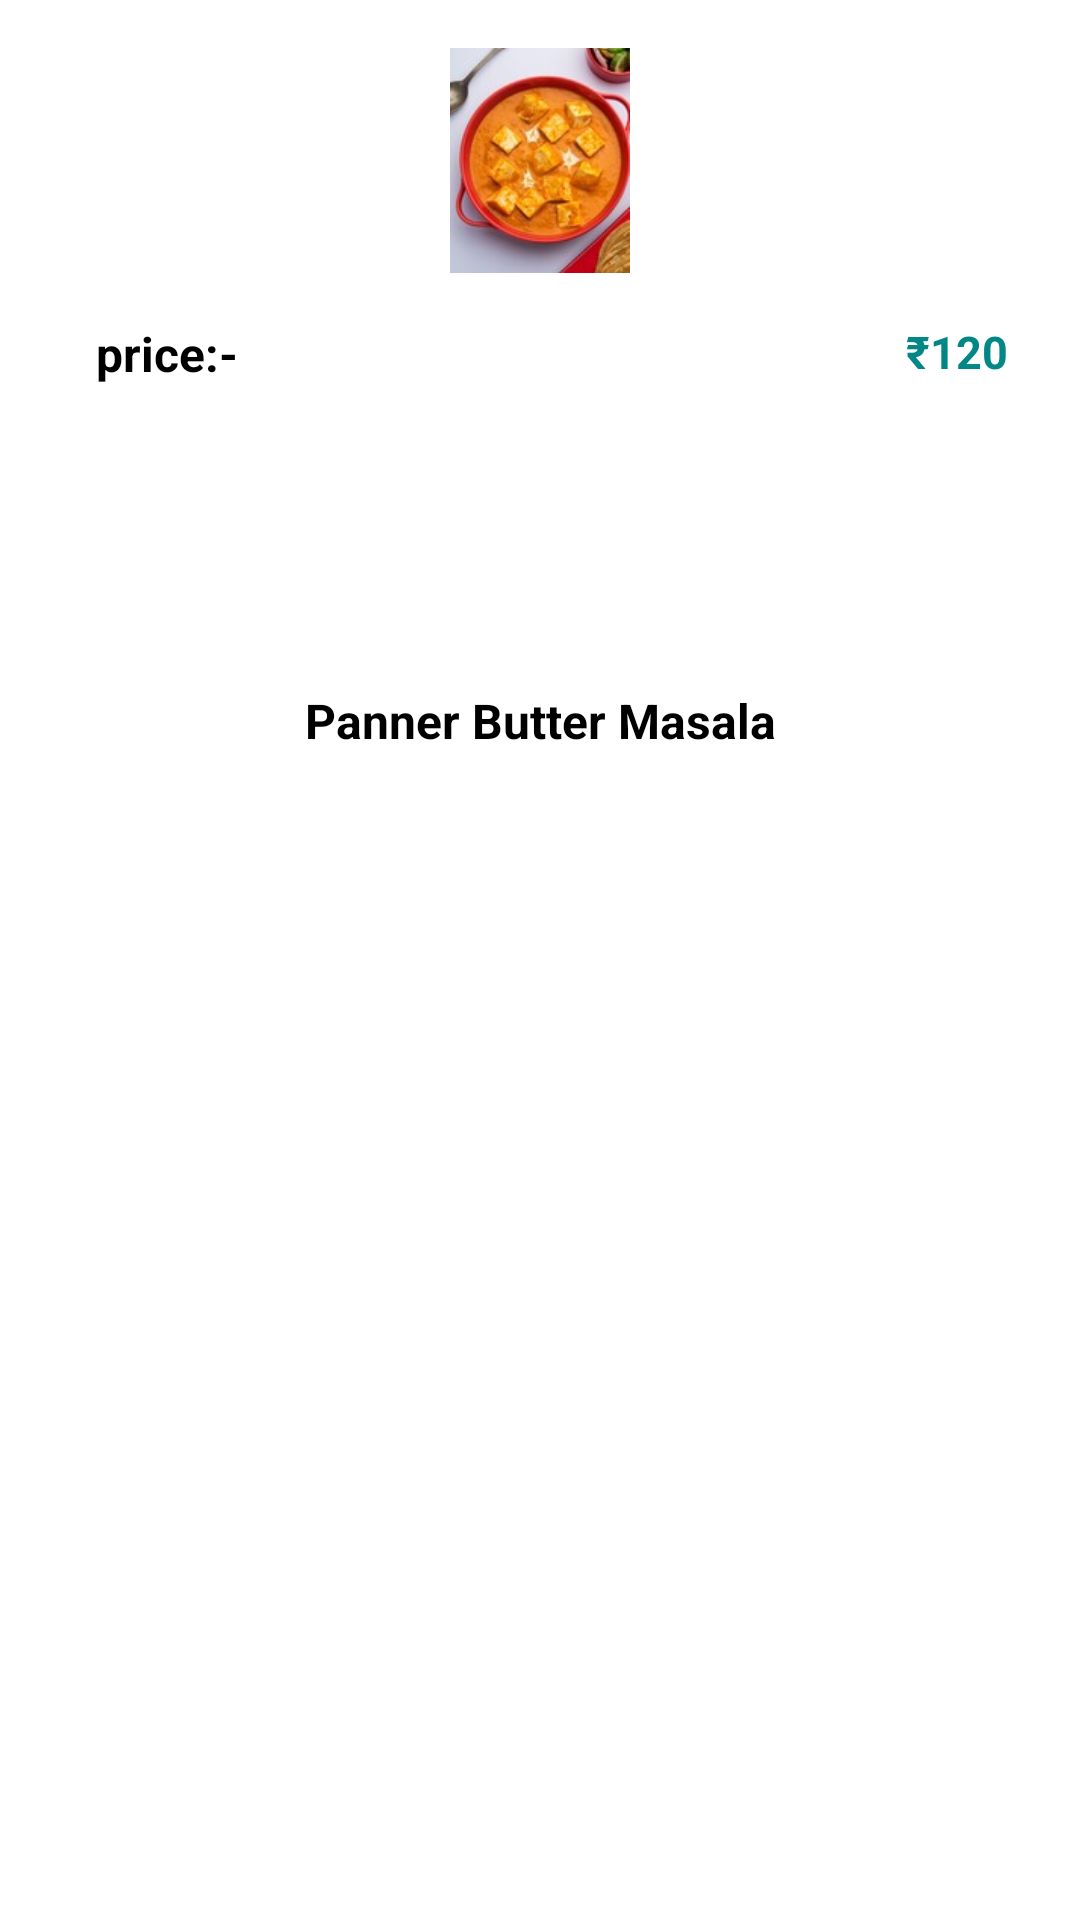

Named icons in this screenshot (1080 × 1920) and their centers, point (x, y):
foodnew: point (540, 160)
